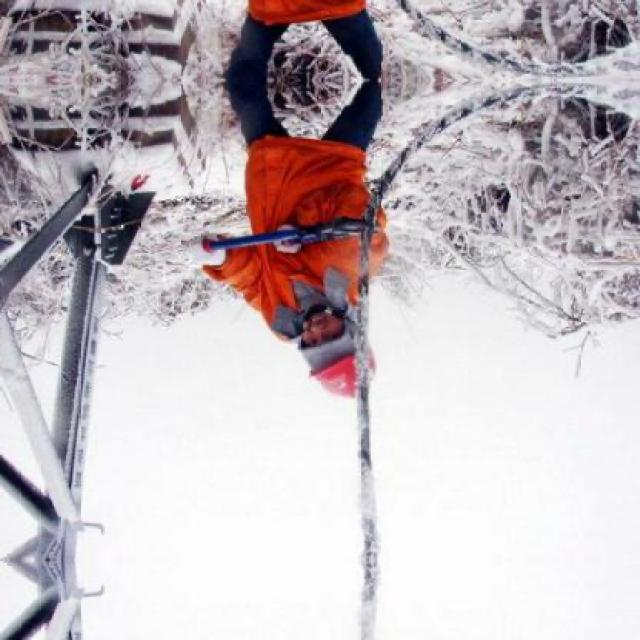con casco: (288, 314, 382, 412)
